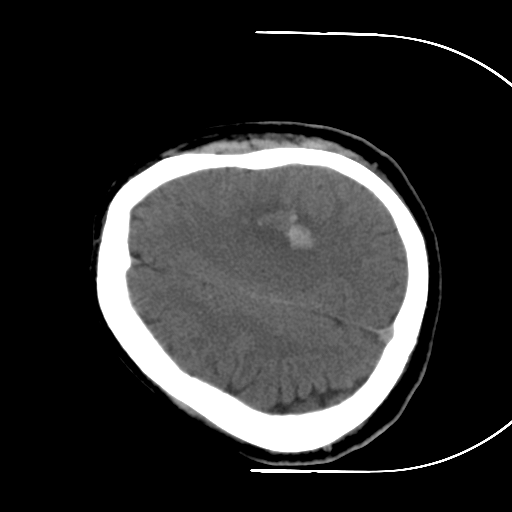a: (235, 184, 332, 268)
